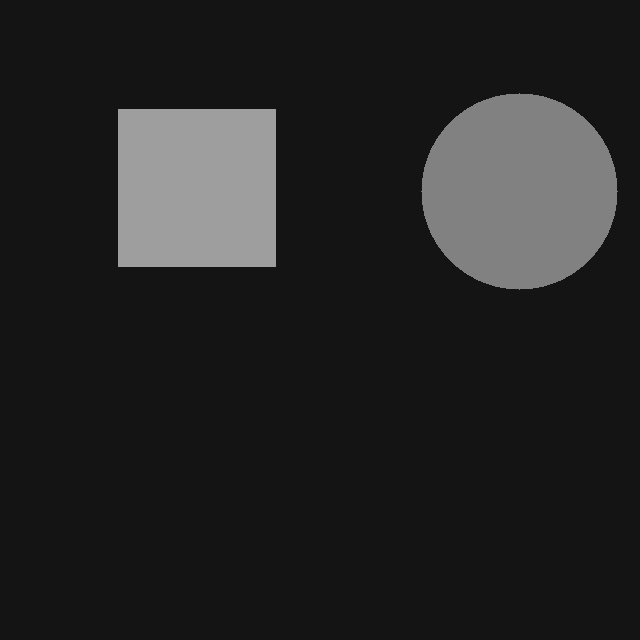circle: (421, 93, 617, 289)
square: (118, 109, 275, 266)
